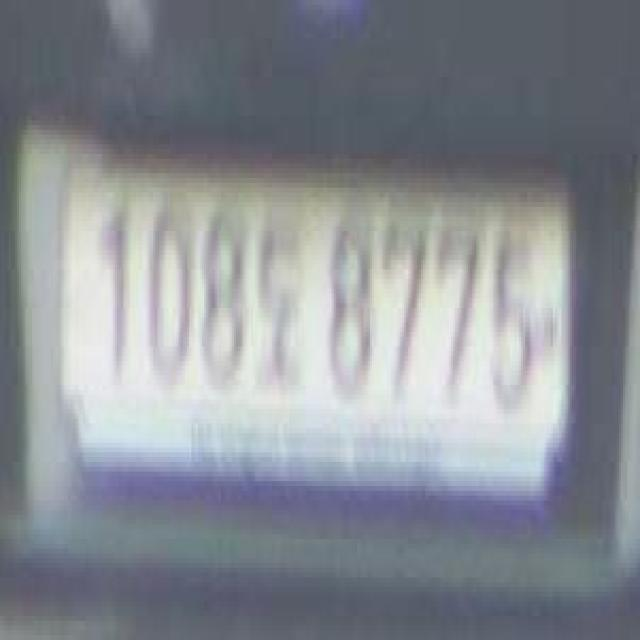illegal_plate: (46, 138, 572, 512)
